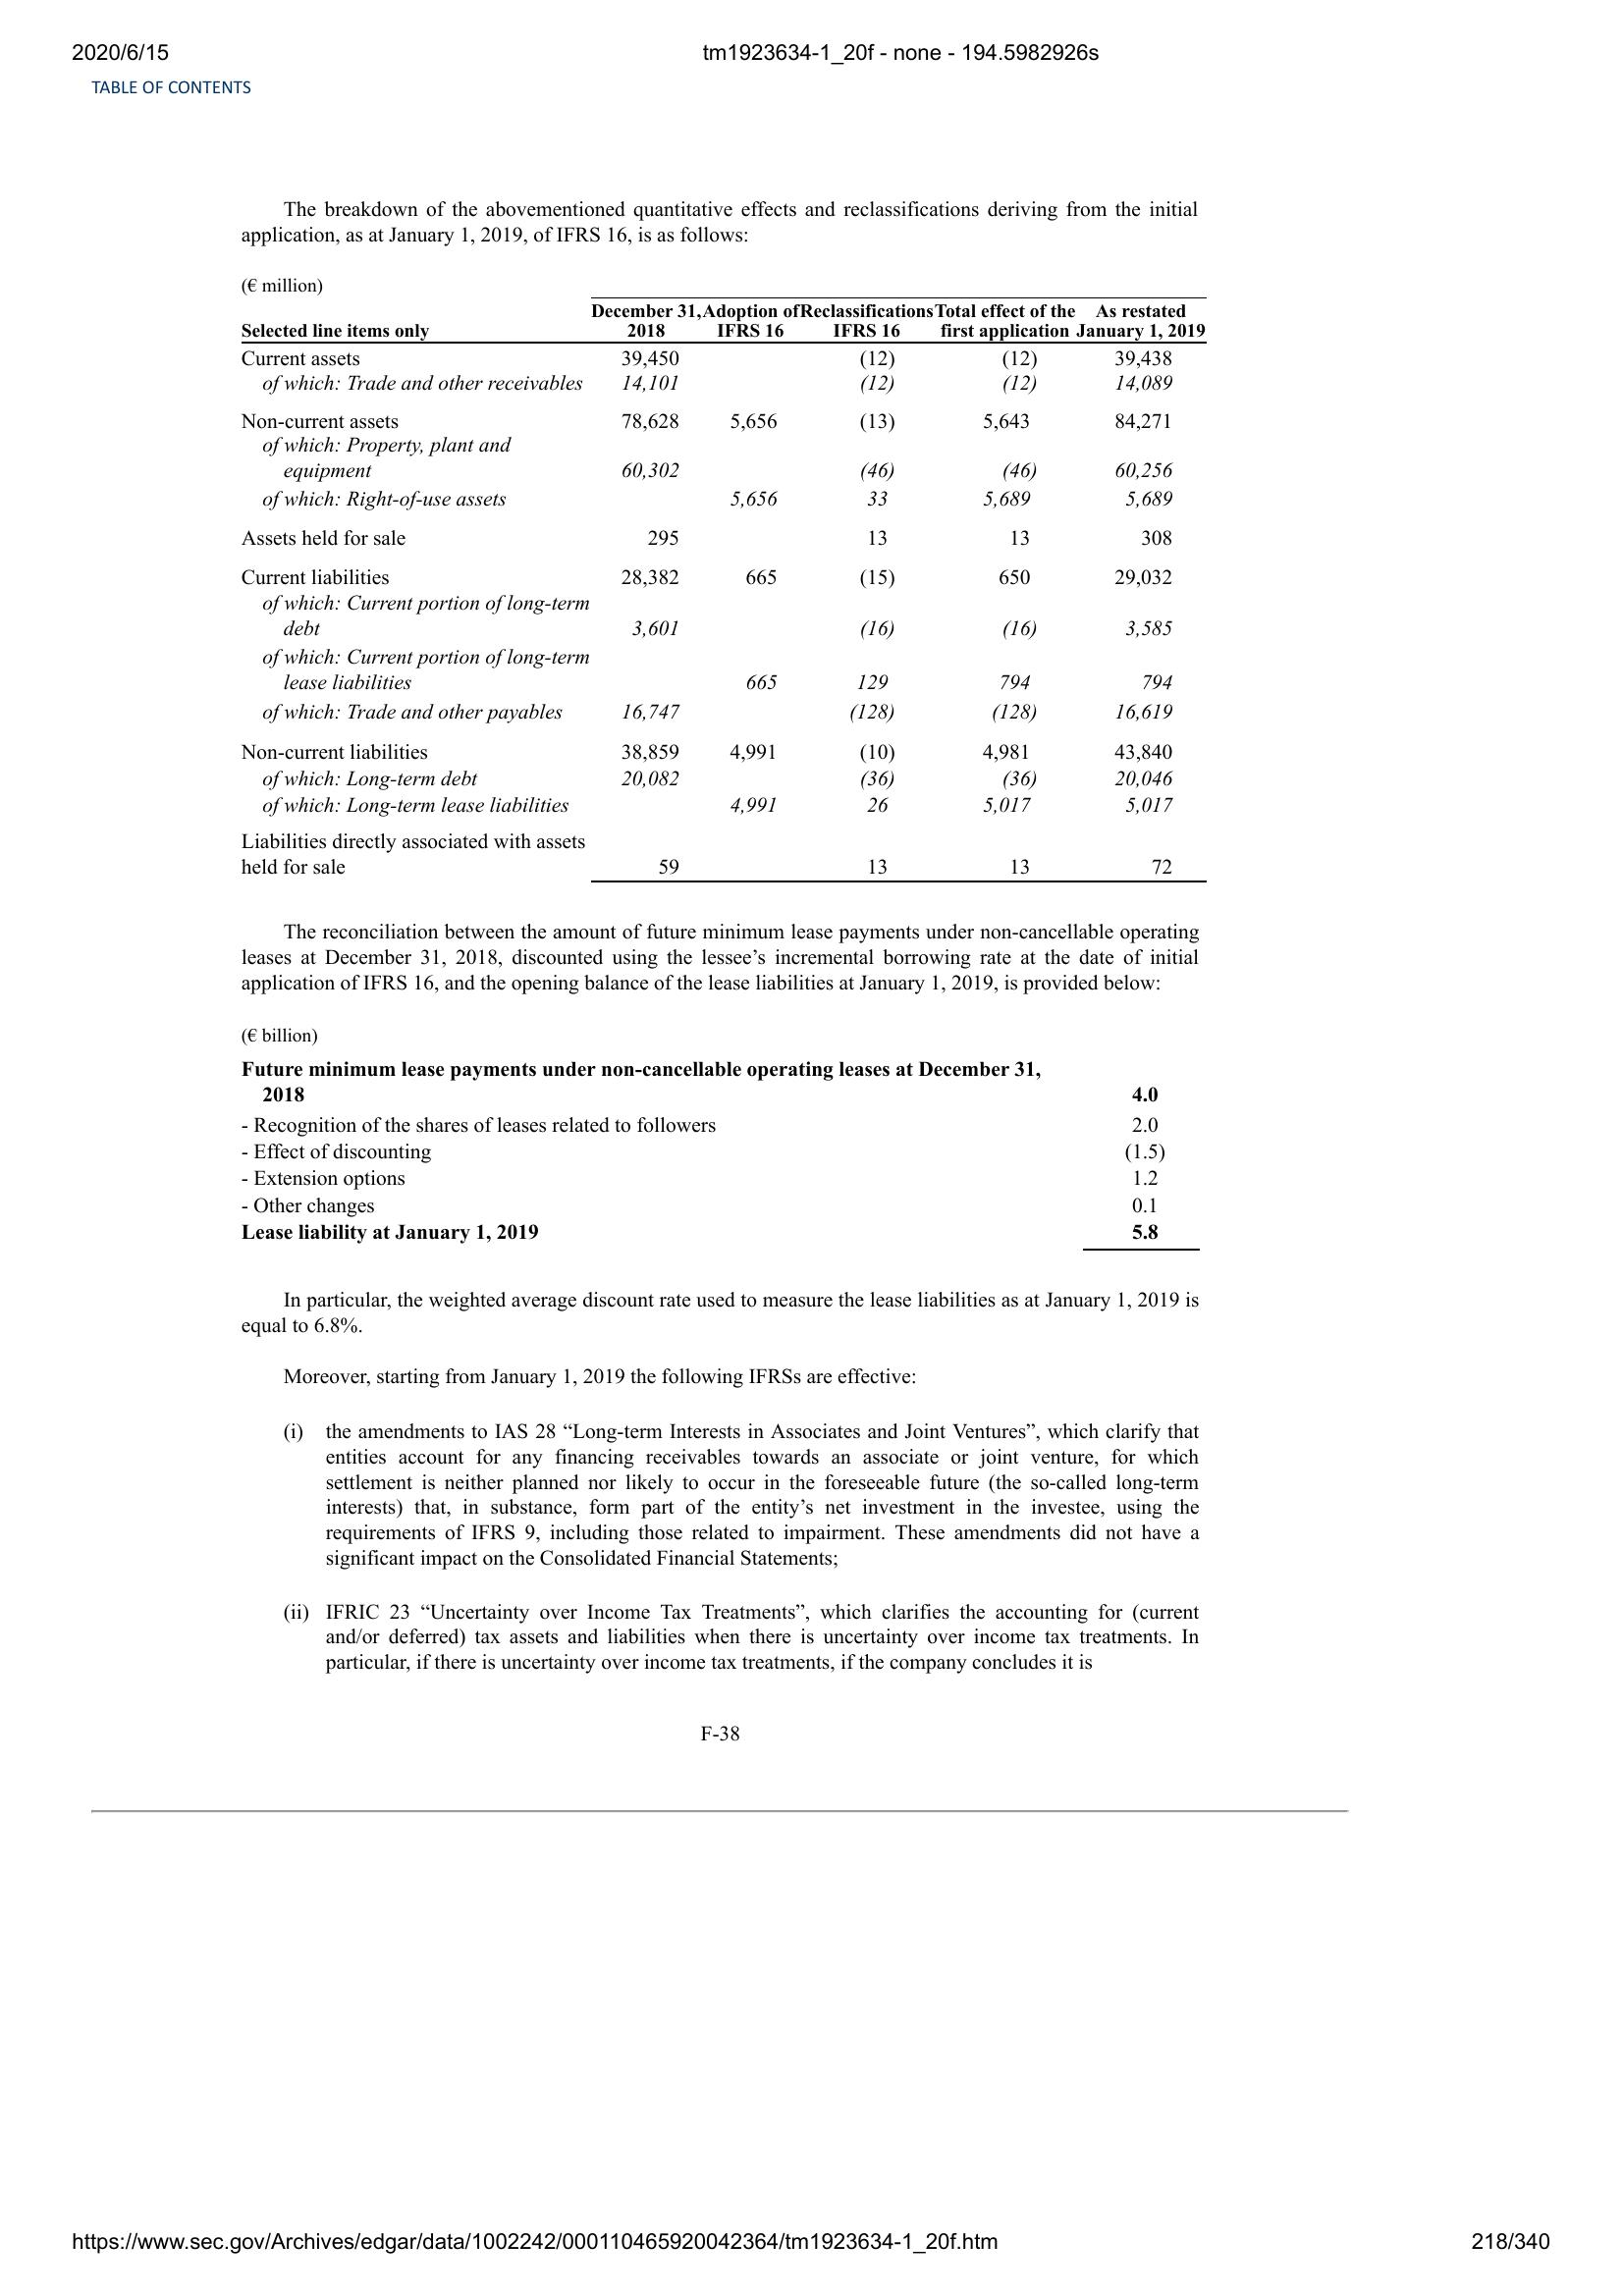table: (235, 286, 1217, 892), (242, 1076, 1215, 1252)
